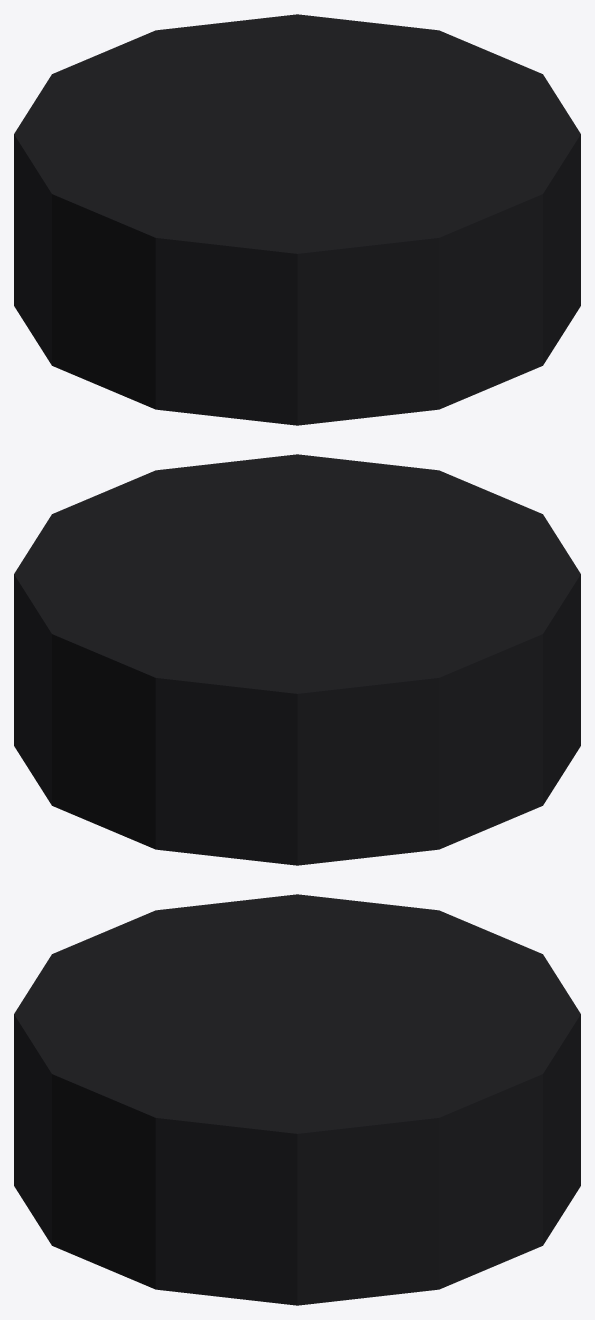
The model's file is GS_HockeyPuck_01.glb.
3 views of the same model, one above another, from view 1: azimuth 30°, elevation 25°; view 2: azimuth 150°, elevation 25°; view 3: azimuth 270°, elevation 25° (orthographic).
Parts seen in each view (by area): view 1: GS_HockeyPuck_01; view 2: GS_HockeyPuck_01; view 3: GS_HockeyPuck_01.
Boxes of the visible parts, bbox=[...] form: GS_HockeyPuck_01: bbox=[14, 14, 580, 425]; GS_HockeyPuck_01: bbox=[14, 454, 580, 865]; GS_HockeyPuck_01: bbox=[14, 894, 580, 1305].
Bounding box in the file's own units: 0.076 × 0.0254 × 0.076.
1 material, 1 textured.
